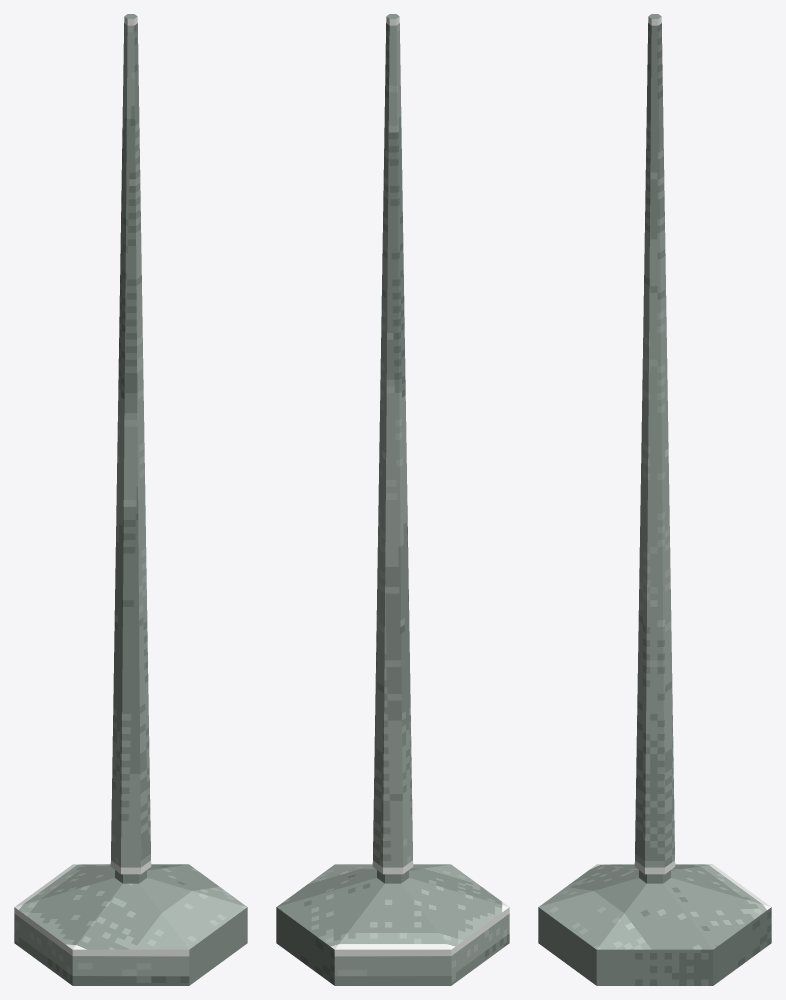
Rendered from Prova_Luce_1.fbx.
The picture shows the model from 3 angles, left to right: view 1: azimuth 30°, elevation 25°; view 2: azimuth 150°, elevation 25°; view 3: azimuth 270°, elevation 25°; orthographic projection.
Visible parts, largest first — view 1: Icosphere.012; view 2: Icosphere.012; view 3: Icosphere.012.
Boxes of the visible parts, <box> form: Icosphere.012: <box>14,14,247,985</box>; Icosphere.012: <box>276,14,509,985</box>; Icosphere.012: <box>538,14,771,985</box>.
Bounding box in the file's own units: 0.6584 × 3.38 × 0.7603.
2 materials, 1 textured.
